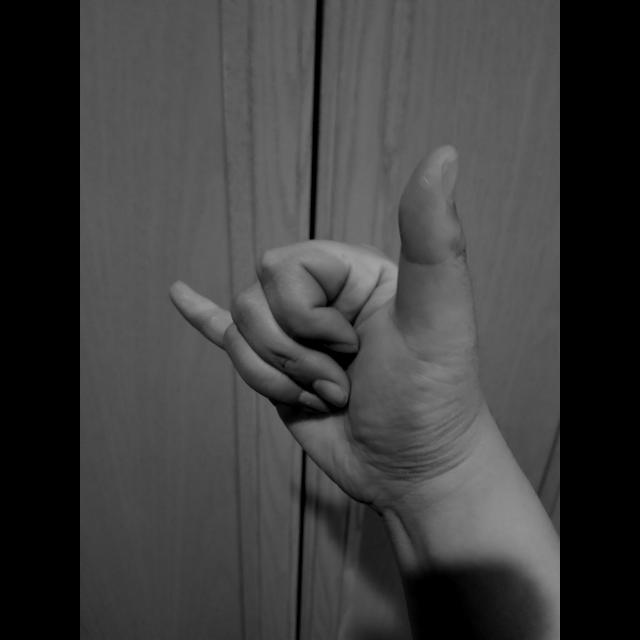Y: (165, 137, 487, 518)
